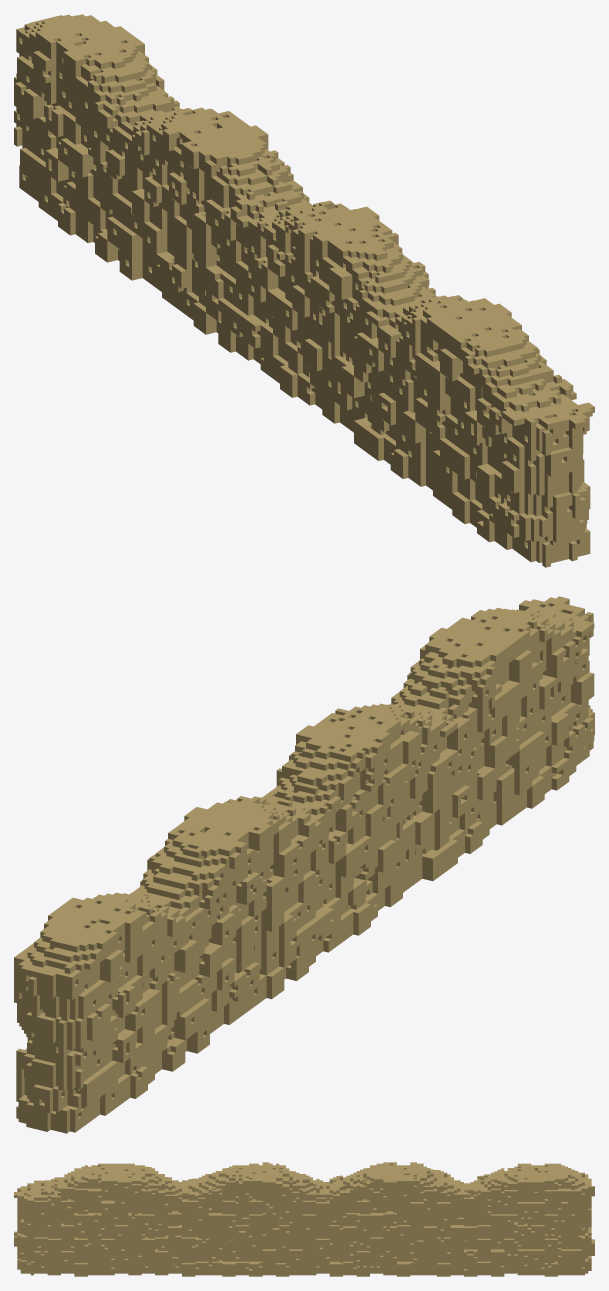
Rendered from fence_dunes_1.obj.
3 views of the same model, one above another, from view 1: azimuth 30°, elevation 25°; view 2: azimuth 150°, elevation 25°; view 3: azimuth 270°, elevation 25° (orthographic). The views are drawn at different scales.
Size of the model in its own units: 0.35 by 0.775 by 4.32.
1 material, 1 textured.
